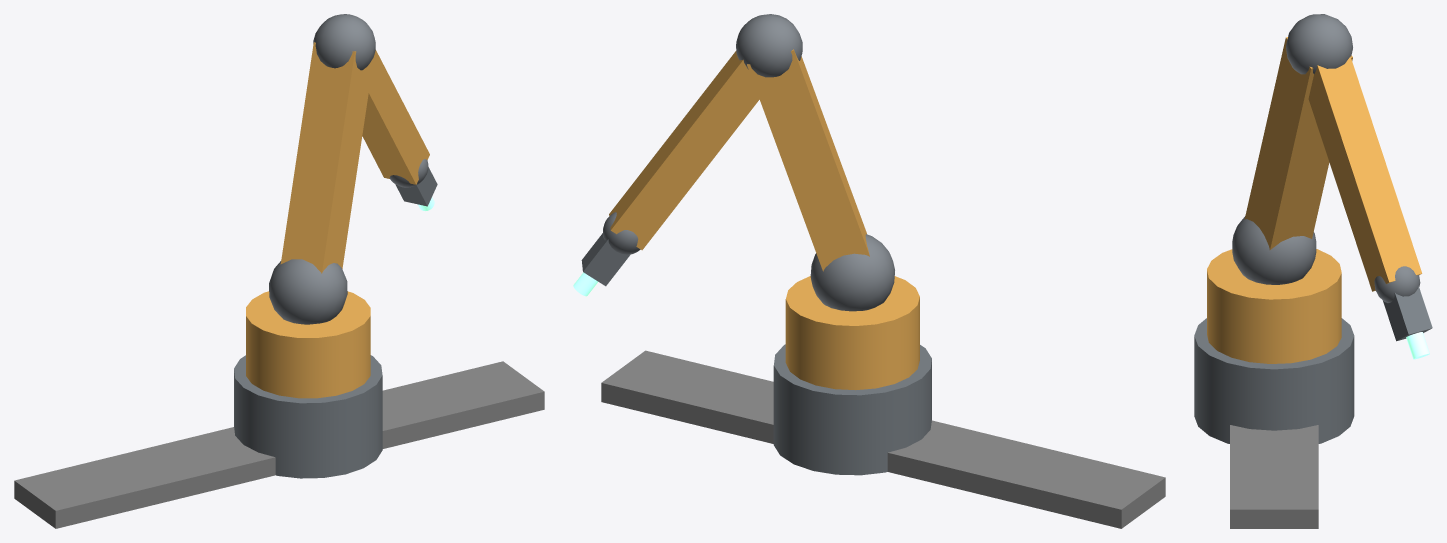
Rendered from floorrobot.glb.
3 views of the same model, side by side, from view 1: azimuth 30°, elevation 25°; view 2: azimuth 150°, elevation 25°; view 3: azimuth 270°, elevation 25° (orthographic). The views are drawn at different scales.
Bounding box in the file's own units: 3.4 × 2.66 × 1.34.
